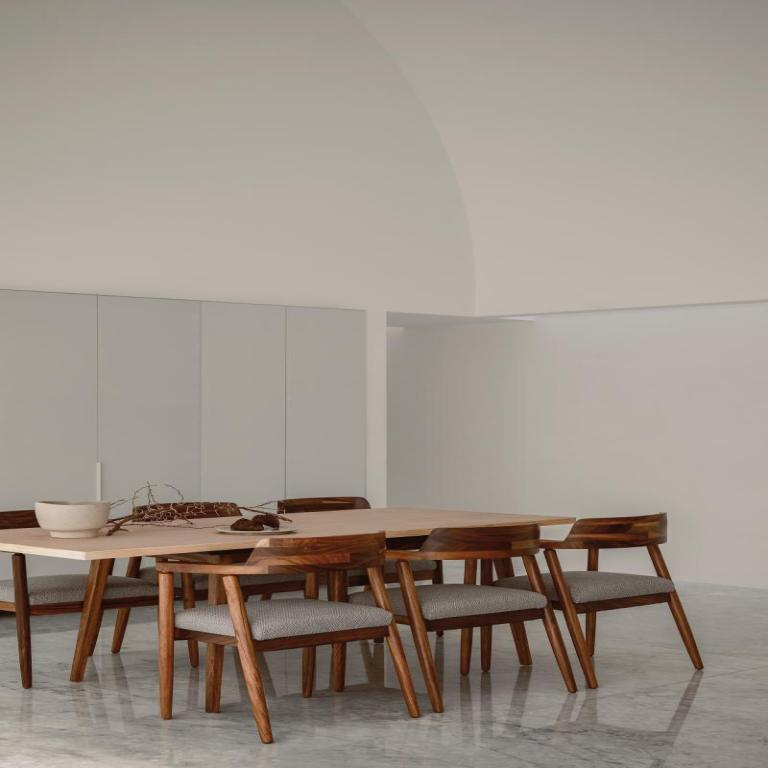white-walls: (40, 13, 744, 275)
